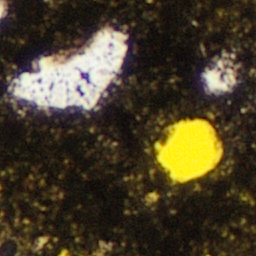air_pores: (155, 119, 221, 182)
cement_matrix: (0, 0, 255, 255), (10, 27, 127, 111), (154, 118, 222, 183), (203, 59, 236, 93)
gravel_crushed_stones: (11, 28, 126, 110), (204, 60, 235, 92), (0, 0, 5, 19)
